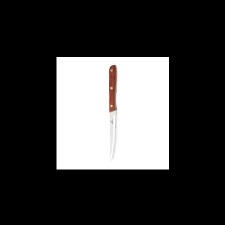k1: (105, 102, 119, 162)
